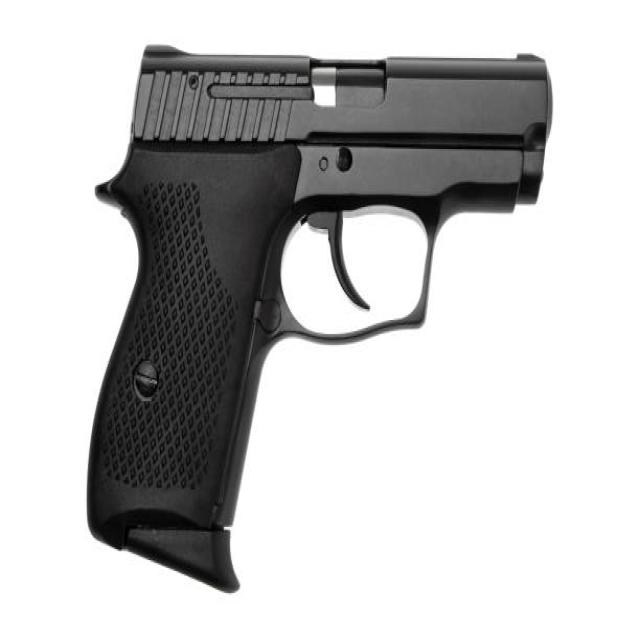pistol: (81, 38, 566, 602)
